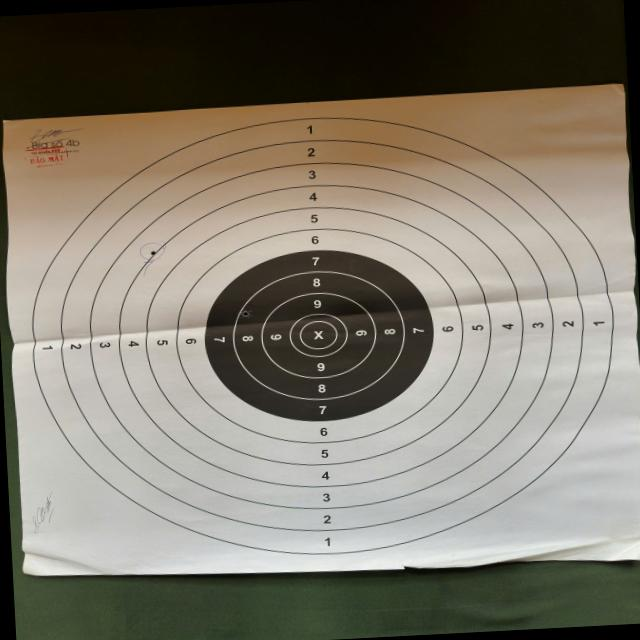bullet: (152, 249, 156, 256), (244, 312, 251, 316)
target: (2, 83, 640, 577)
